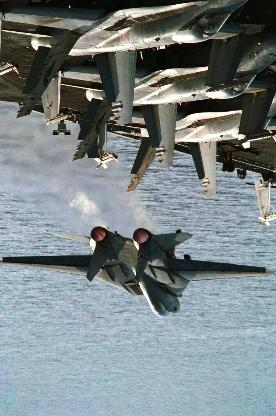EF2000: (0, 226, 275, 319)
F15: (40, 27, 276, 168), (0, 2, 258, 126), (76, 82, 275, 198)
